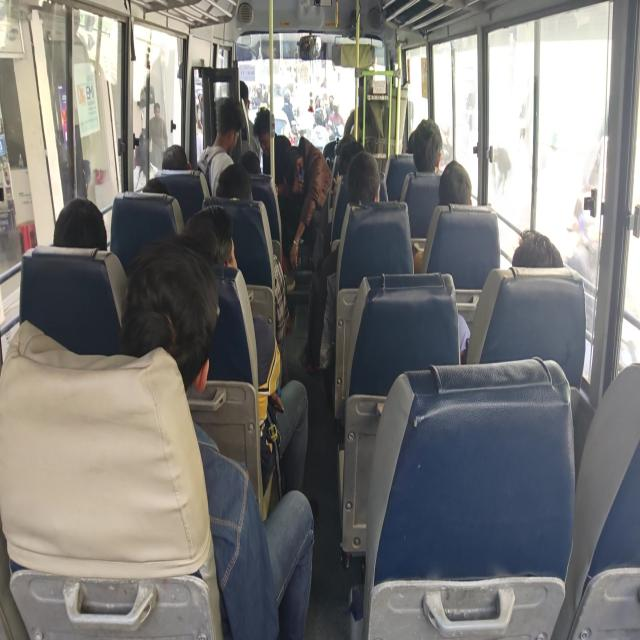person: (126, 209, 217, 404), (179, 197, 246, 284), (49, 184, 113, 263), (506, 216, 566, 288), (343, 146, 387, 216), (432, 155, 480, 210), (215, 84, 247, 155), (217, 153, 253, 209), (412, 118, 444, 170), (249, 105, 279, 159), (278, 142, 308, 196), (158, 140, 197, 175), (332, 137, 360, 175), (234, 74, 257, 115), (141, 177, 171, 203), (356, 65, 376, 103), (240, 147, 265, 177), (406, 124, 420, 154)
